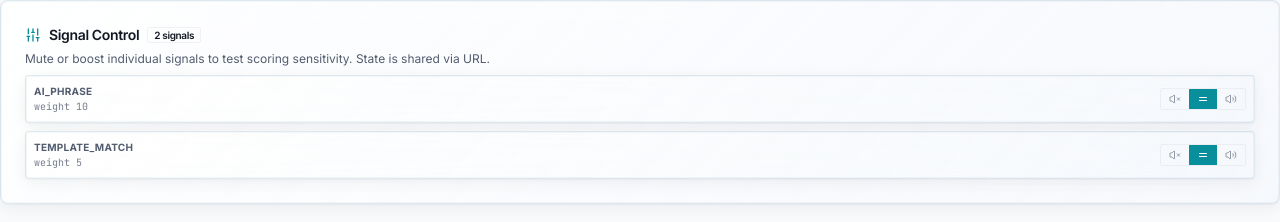
Test: SignalMuteBoostPanel what-if tooltips › shows projected score in tooltip when hovering a non-active mute button
Hover over the button with test id "signal-mute-boost-ai_phrase-mute" at (1175, 99), box [1161,89,1189,109]
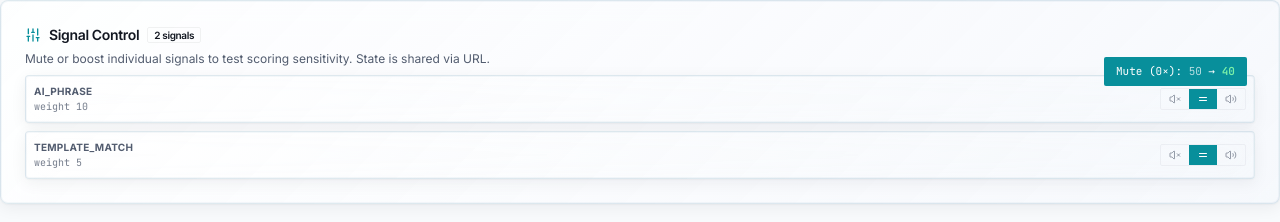
Expected: the tooltip with test id "signal-whatif-tooltip-ai_phrase-mute" is shown, [1104,57,1247,86]
Expected: the tooltip with test id "signal-whatif-tooltip-ai_phrase-mute" shows "→", [1208,64,1215,78]
Expected: the tooltip with test id "signal-whatif-tooltip-ai_phrase-mute" shows "40", [1222,64,1235,78]
